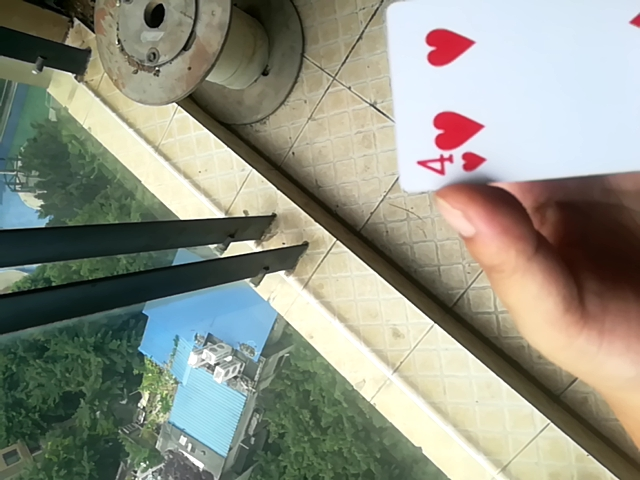hx 4: (383, 0, 638, 198)
